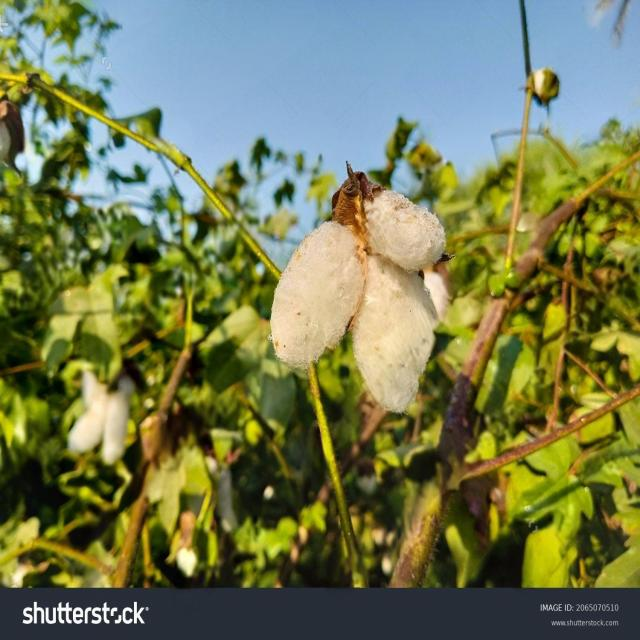Leaf: (257, 147, 470, 434)
